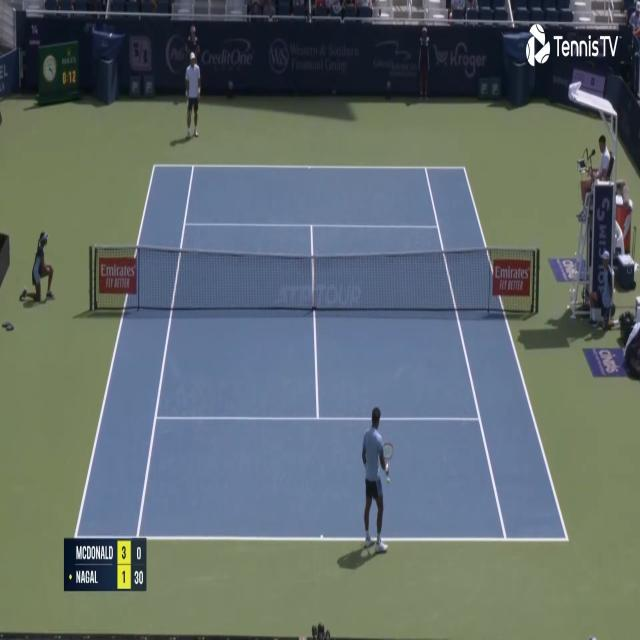tennis-player: (358, 403, 393, 559), (184, 49, 202, 140)
